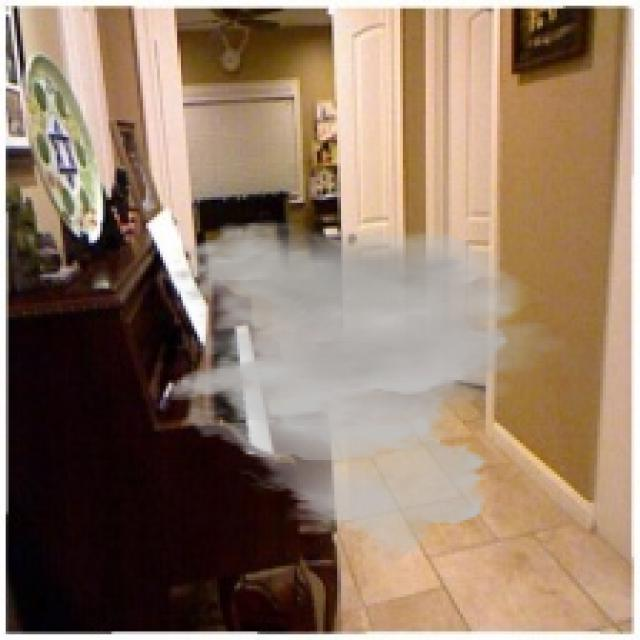smoke: (166, 220, 574, 569)
